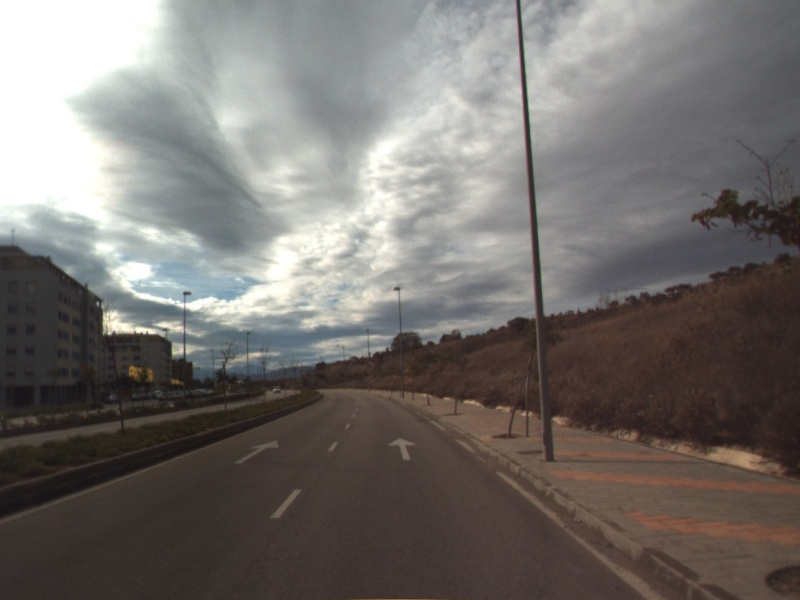STRAIGHT: (231, 438, 282, 466), (386, 435, 419, 462)
